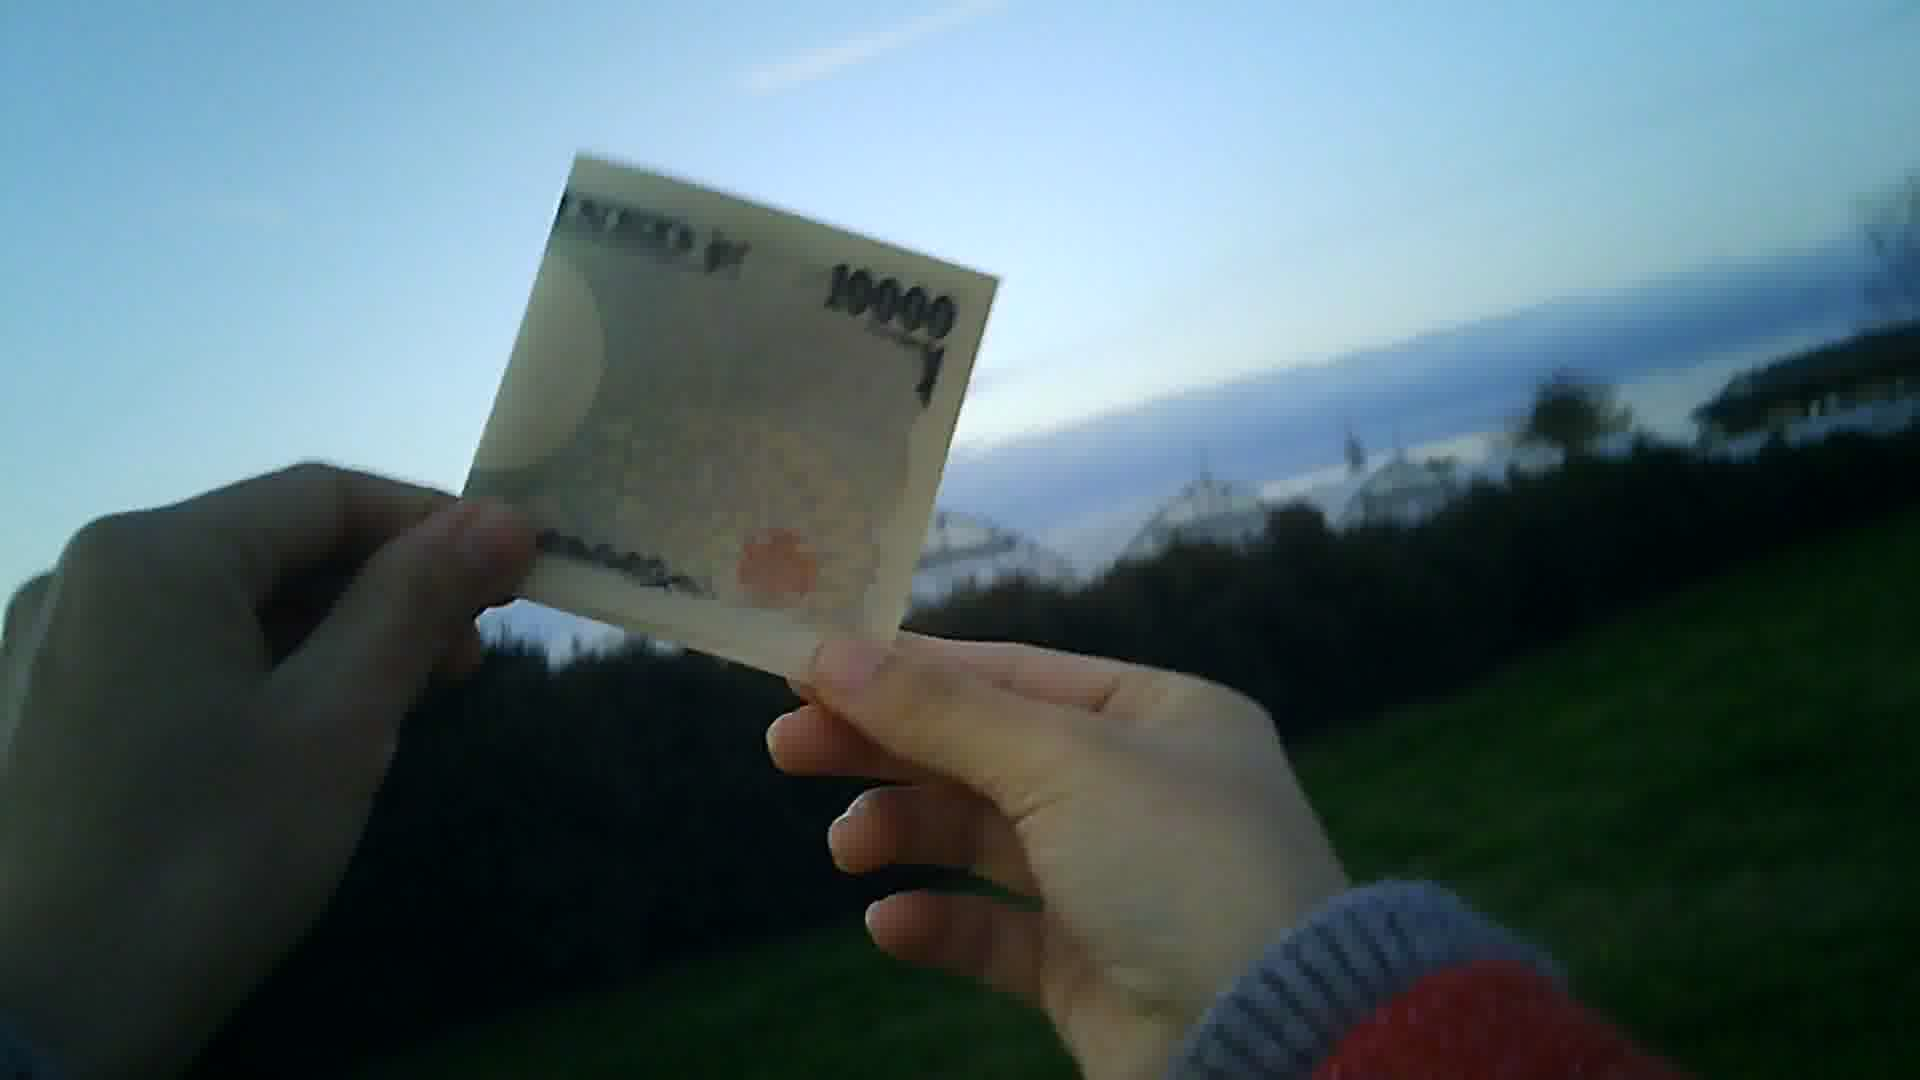10,000 Yen: (451, 127, 976, 669)
